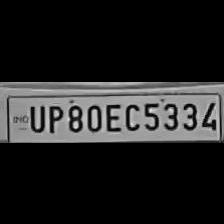0: (84, 100, 103, 132)
3: (178, 97, 198, 130), (160, 97, 178, 130)
4: (198, 96, 218, 130)
5: (140, 97, 160, 130)
8: (64, 100, 84, 132)
C: (122, 98, 140, 130)
E: (102, 100, 122, 132)
P: (44, 100, 64, 134)
U: (24, 102, 46, 132)
